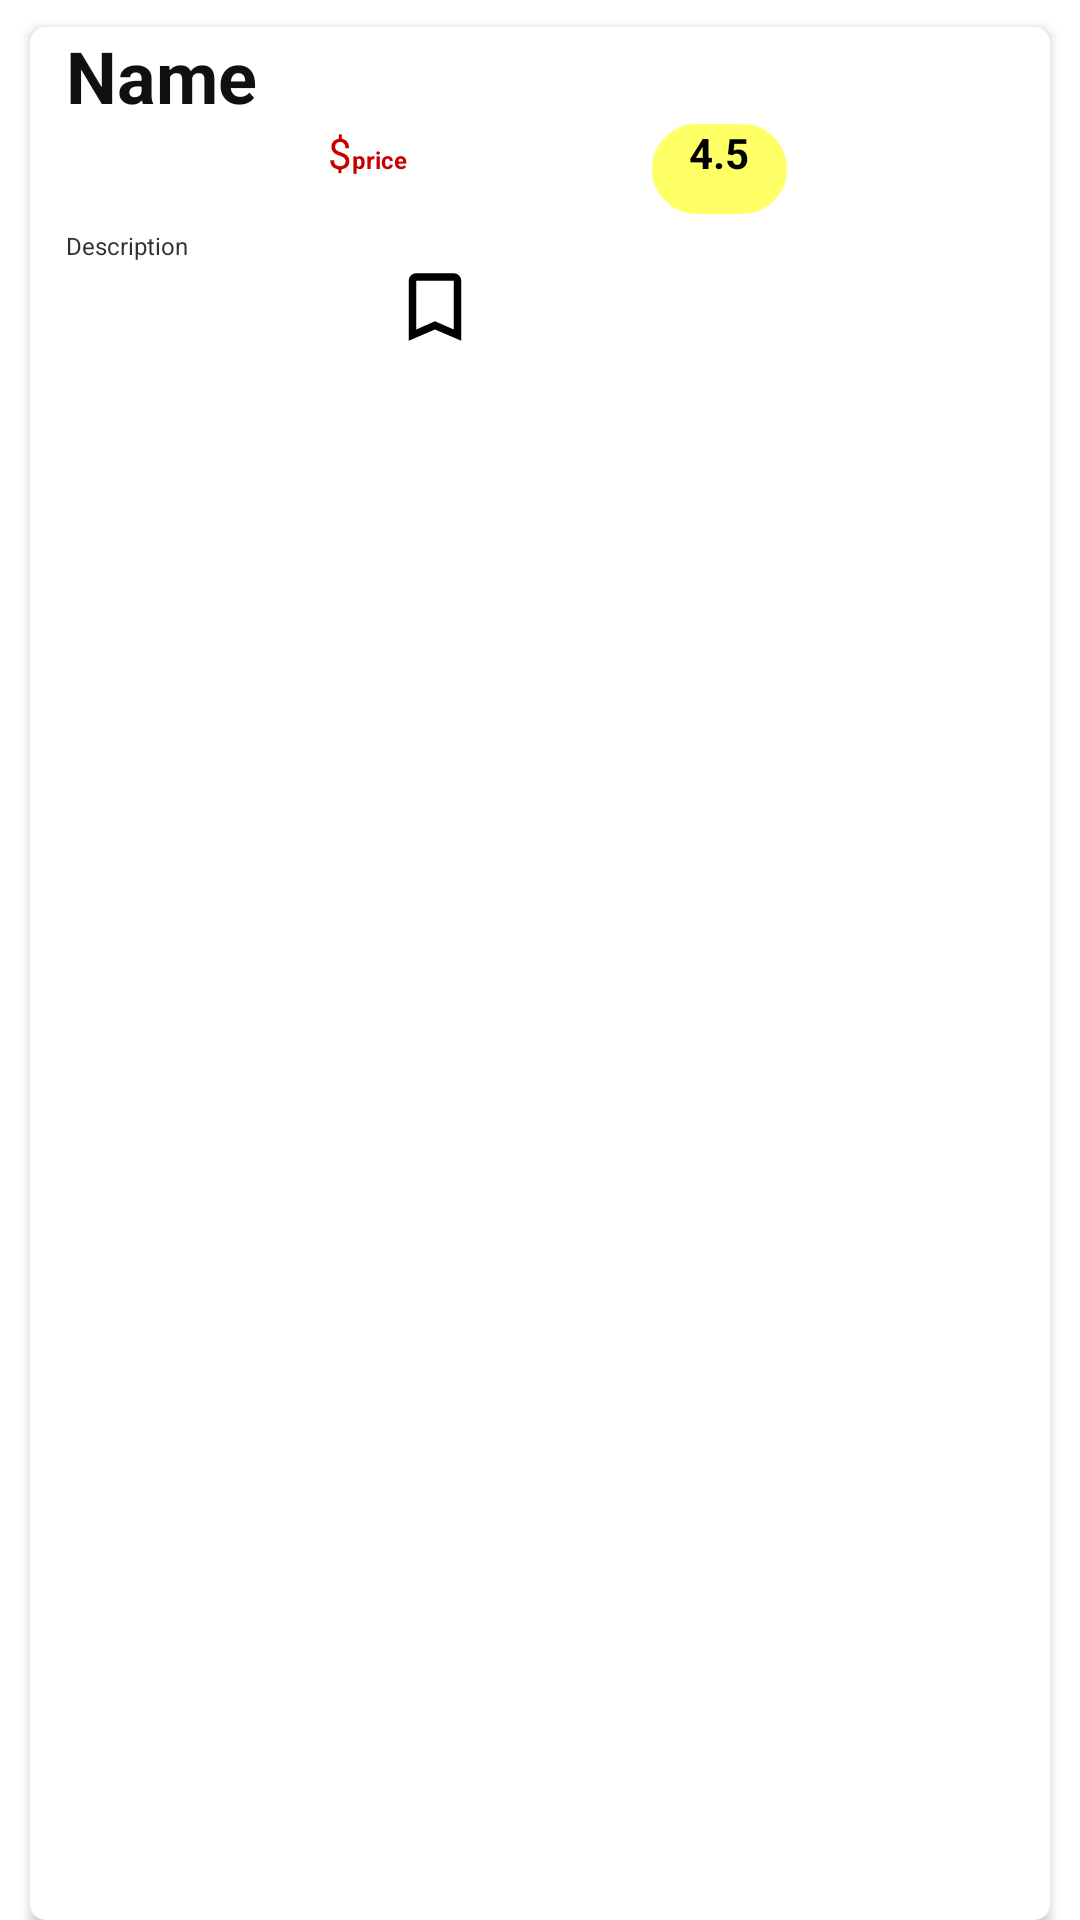

Screen size 1080 × 1920. Icon name, then its center in pixels as (x=x, y=y):
bookmark: (x=435, y=307)
